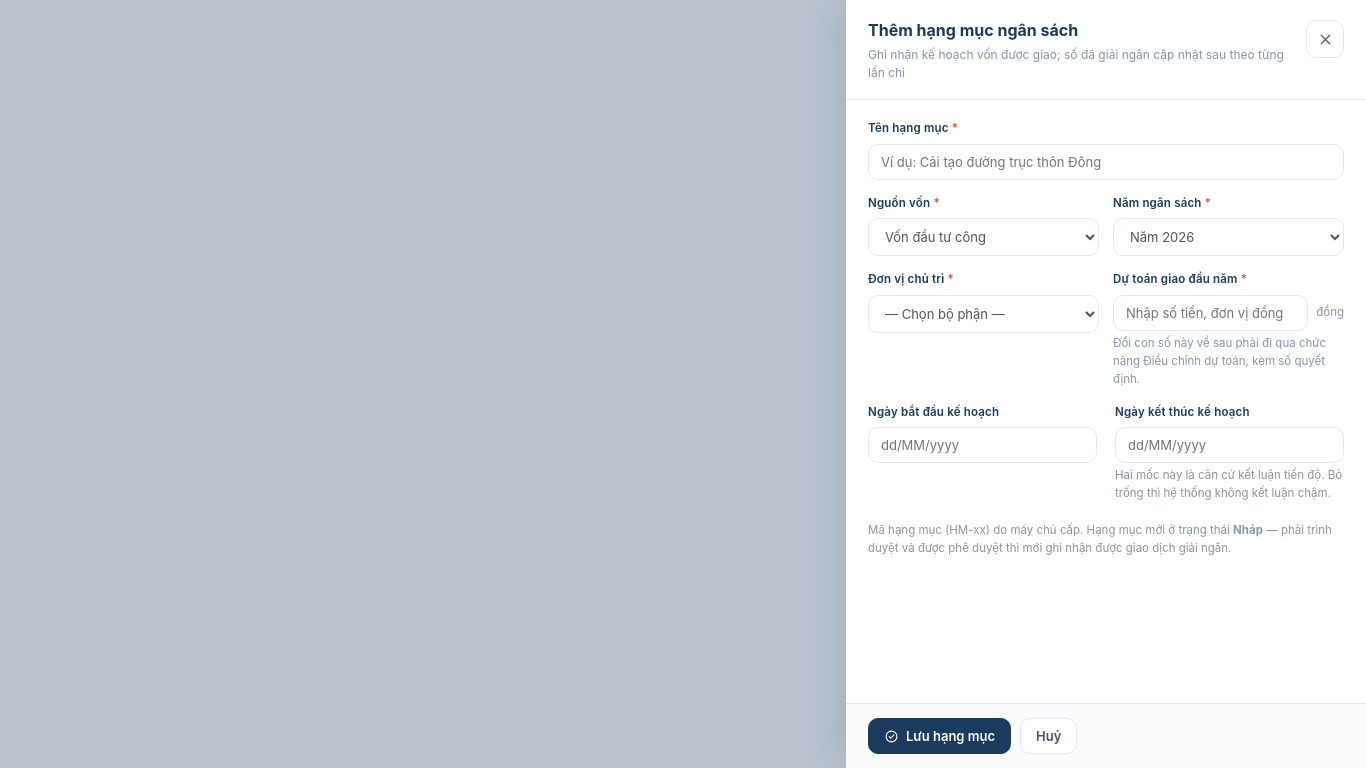
Test: AddBudgetForm › bỏ trống ô bắt buộc thì báo lỗi tiếng Việt và không gọi API
The width and height of the screenshot is (1366, 768).
Click the button "Lưu hạng mục". click: (940, 736)
box: [868,718,1011,754]
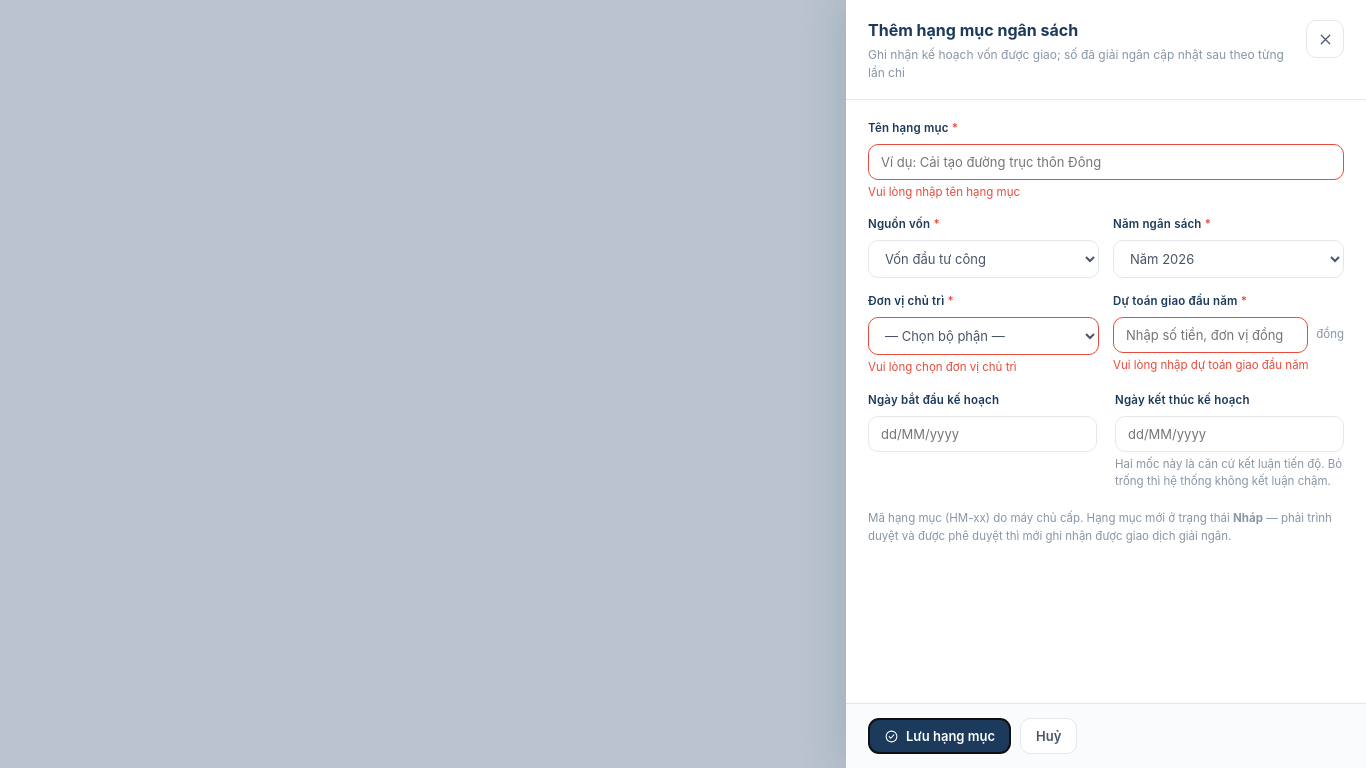
Check: the text "Vui lòng nhập tên hạng mục" is shown, box [868,185,1020,199]
Check: the text "Vui lòng chọn đơn vị chủ trì" is shown, box [868,360,1017,374]
Check: the text "Vui lòng nhập dự toán giao đầu năm" is shown, box [1113,358,1309,372]
